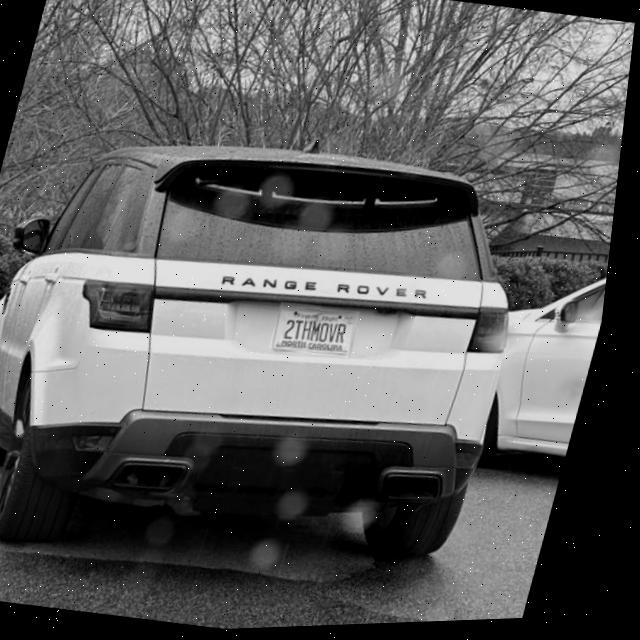LicensePlate: (279, 308, 366, 359)
